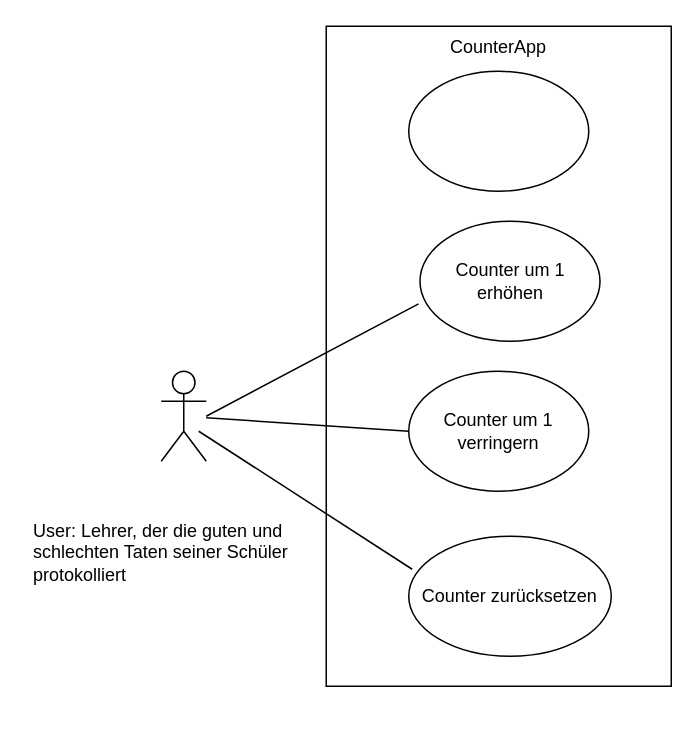
Some shapes in this 698 by 743 pixel diagram are drawn without their labels. The centre of each missing label's shape, as x and y in pixels:
"Counter wird angezeigt" goes at pixel 498 130.
"User" goes at pixel 183 415.
